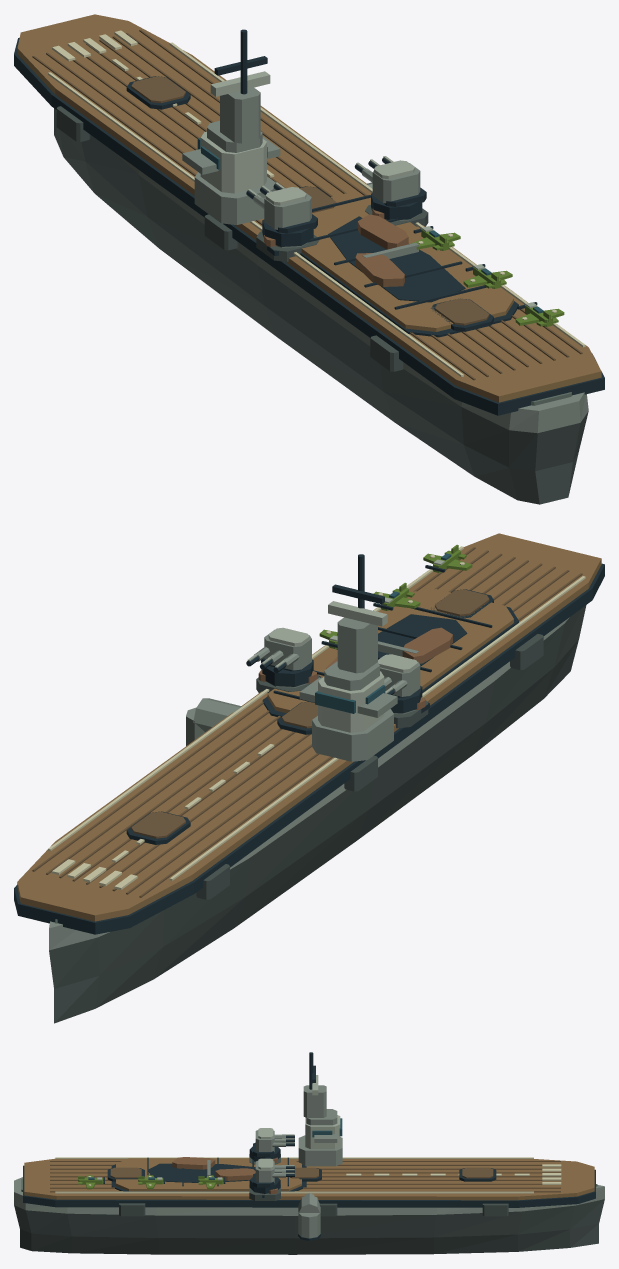
Rendered from fleet-carrier.glb.
3 renders of one model, top to bottom at view 1: azimuth 30°, elevation 25°; view 2: azimuth 150°, elevation 25°; view 3: azimuth 270°, elevation 25°, orthographic. The views are drawn at different scales.
Visible parts, largest first — view 1: fleet-carrier-fleet-carrier-geometry, fleet-carrier-part_bridge.004-geometry, fleet-carrier-part_flight-deck.001-geometry, fleet-carrier-ruin_flight-deck-geometry, fleet-carrier-turret_aa_aa-starboard.004-geometry, fleet-carrier-turret_aa_aa-port.005-geometry, fleet-carrier-aircraft_lift_0.001-geometry, fleet-carrier-aircraft_lift_2.001-geometry, fleet-carrier-parked_aircraft_1.001-geometry, fleet-carrier-parked_aircraft_0.001-geometry, fleet-carrier-parked_aircraft_2.001-geometry, fleet-carrier-part_aa-port.005-geometry; view 2: fleet-carrier-fleet-carrier-geometry, fleet-carrier-part_bridge.004-geometry, fleet-carrier-part_flight-deck.001-geometry, fleet-carrier-ruin_flight-deck-geometry, fleet-carrier-turret_aa_aa-starboard.004-geometry, fleet-carrier-turret_aa_aa-port.005-geometry, fleet-carrier-aircraft_lift_0.001-geometry, fleet-carrier-historic_funnel_0.004-geometry, fleet-carrier-aircraft_lift_2.001-geometry, fleet-carrier-aircraft_lift_1.001-geometry, fleet-carrier-parked_aircraft_0.001-geometry, fleet-carrier-parked_aircraft_1.001-geometry; view 3: fleet-carrier-fleet-carrier-geometry, fleet-carrier-part_bridge.004-geometry, fleet-carrier-part_flight-deck.001-geometry, fleet-carrier-ruin_flight-deck-geometry, fleet-carrier-turret_aa_aa-starboard.004-geometry, fleet-carrier-turret_aa_aa-port.005-geometry, fleet-carrier-historic_funnel_0.004-geometry, fleet-carrier-aircraft_lift_0.001-geometry, fleet-carrier-aircraft_lift_2.001-geometry, fleet-carrier-aircraft_lift_1.001-geometry.
Part boxes in pixels (left/top/right/bottom): fleet-carrier-fleet-carrier-geometry: left=14, top=14, right=604, bottom=504; fleet-carrier-part_bridge.004-geometry: left=182, top=29, right=280, bottom=224; fleet-carrier-part_flight-deck.001-geometry: left=300, top=193, right=518, bottom=337; fleet-carrier-ruin_flight-deck-geometry: left=328, top=214, right=465, bottom=302; fleet-carrier-turret_aa_aa-starboard.004-geometry: left=354, top=156, right=426, bottom=219; fleet-carrier-turret_aa_aa-port.005-geometry: left=246, top=182, right=317, bottom=246; fleet-carrier-aircraft_lift_0.001-geometry: left=126, top=76, right=190, bottom=109; fleet-carrier-aircraft_lift_2.001-geometry: left=431, top=298, right=493, bottom=331; fleet-carrier-parked_aircraft_1.001-geometry: left=463, top=264, right=512, bottom=288; fleet-carrier-parked_aircraft_0.001-geometry: left=515, top=302, right=564, bottom=326; fleet-carrier-parked_aircraft_2.001-geometry: left=411, top=226, right=460, bottom=250; fleet-carrier-part_aa-port.005-geometry: left=256, top=231, right=319, bottom=261; fleet-carrier-fleet-carrier-geometry: left=14, top=533, right=604, bottom=1023; fleet-carrier-part_bridge.004-geometry: left=299, top=554, right=397, bottom=761; fleet-carrier-part_flight-deck.001-geometry: left=262, top=589, right=518, bottom=716; fleet-carrier-ruin_flight-deck-geometry: left=326, top=614, right=467, bottom=668; fleet-carrier-turret_aa_aa-starboard.004-geometry: left=246, top=627, right=313, bottom=686; fleet-carrier-turret_aa_aa-port.005-geometry: left=378, top=654, right=422, bottom=713; fleet-carrier-aircraft_lift_0.001-geometry: left=126, top=811, right=190, bottom=844; fleet-carrier-historic_funnel_0.004-geometry: left=186, top=698, right=241, bottom=745; fleet-carrier-aircraft_lift_2.001-geometry: left=431, top=589, right=493, bottom=618; fleet-carrier-aircraft_lift_1.001-geometry: left=277, top=701, right=317, bottom=734; fleet-carrier-parked_aircraft_0.001-geometry: left=423, top=544, right=472, bottom=572; fleet-carrier-parked_aircraft_1.001-geometry: left=373, top=582, right=420, bottom=610; fleet-carrier-fleet-carrier-geometry: left=14, top=1157, right=604, bottom=1254; fleet-carrier-part_bridge.004-geometry: left=298, top=1052, right=342, bottom=1166; fleet-carrier-part_flight-deck.001-geometry: left=111, top=1157, right=306, bottom=1191; fleet-carrier-ruin_flight-deck-geometry: left=148, top=1157, right=255, bottom=1182; fleet-carrier-turret_aa_aa-starboard.004-geometry: left=249, top=1158, right=294, bottom=1193; fleet-carrier-turret_aa_aa-port.005-geometry: left=249, top=1128, right=294, bottom=1161; fleet-carrier-historic_funnel_0.004-geometry: left=298, top=1193, right=320, bottom=1240; fleet-carrier-aircraft_lift_0.001-geometry: left=459, top=1167, right=496, bottom=1181; fleet-carrier-aircraft_lift_2.001-geometry: left=107, top=1167, right=144, bottom=1181; fleet-carrier-aircraft_lift_1.001-geometry: left=289, top=1167, right=321, bottom=1181.
Bounding box in the file's own units: 1.43 × 1.92 × 5.89.
